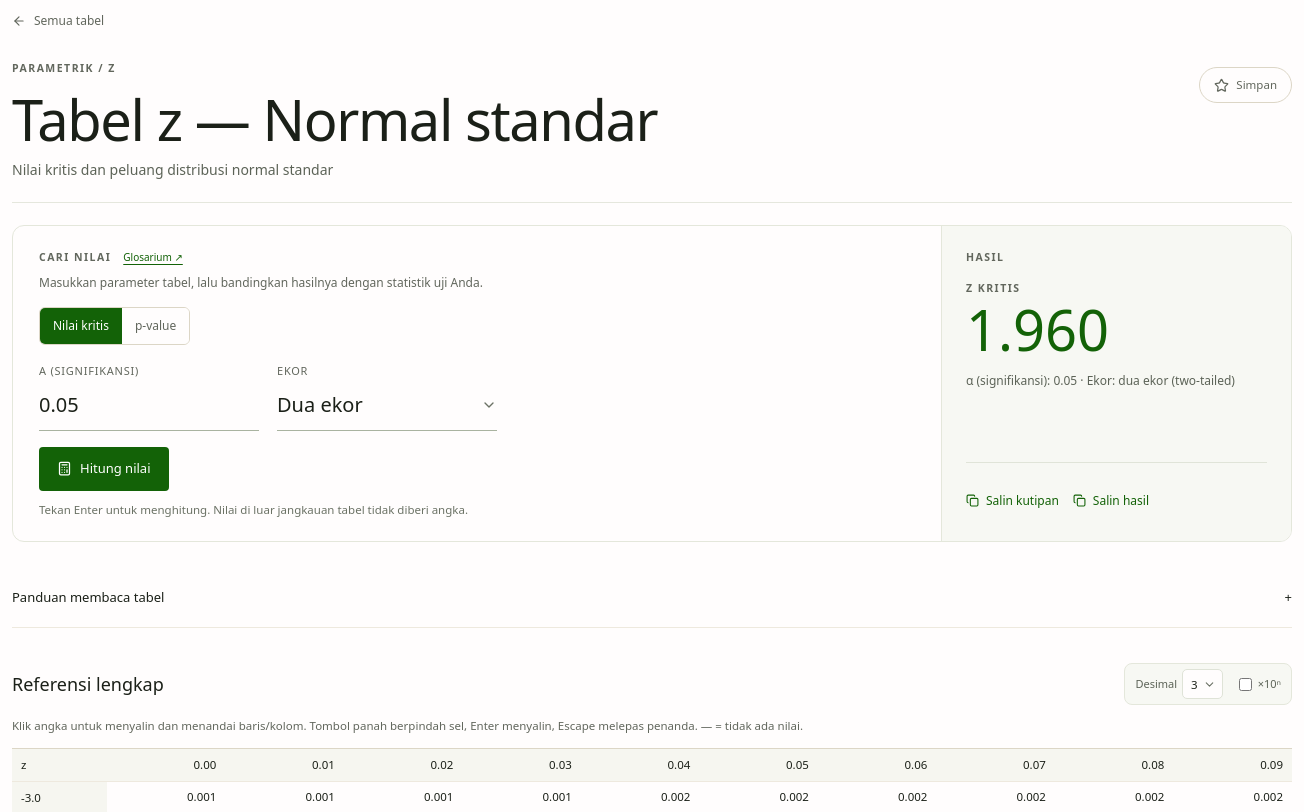
dropdown ekor memakai menu kustom dan menerapkan pilihan
This screenshot has width=1304, height=812.
Step 1. Click the dropdown labelled "ekor" → click(387, 405), box [277,380,497,431]
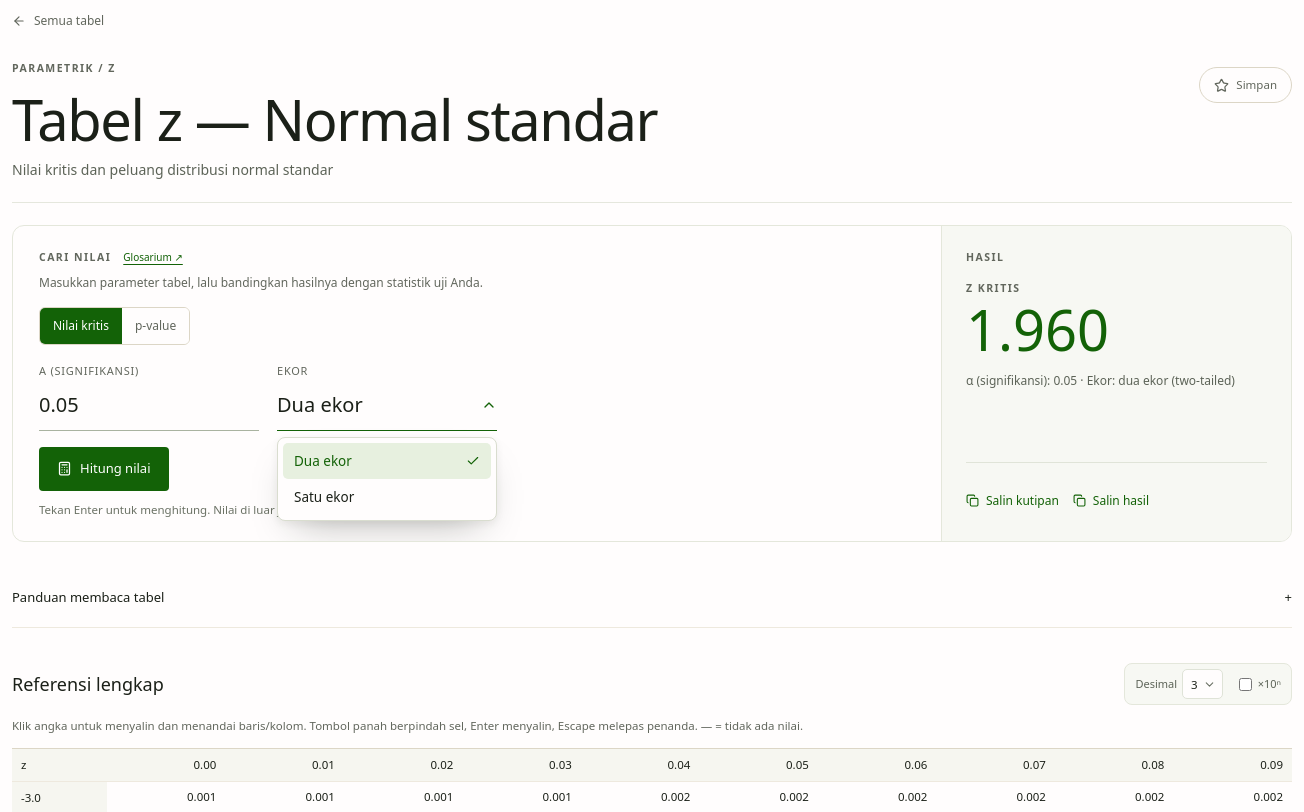
Now the dropdown labelled "ekor" is expanded, box [277,380,497,431]
Now the list "ekor" is shown, box [277,437,497,521]
Step 2. Click the option "Satu ekor" → click(324, 497), box [294,488,354,506]
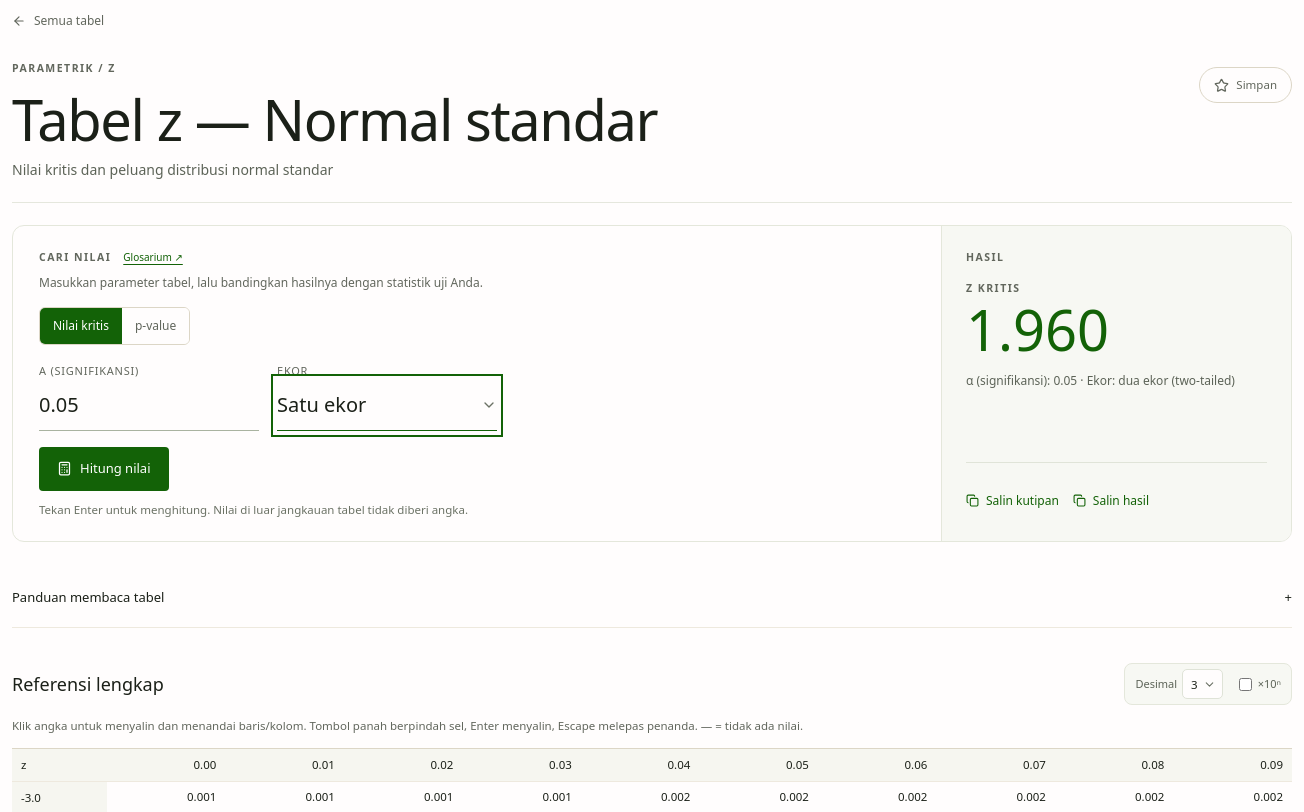
Now the list is gone
Now the dropdown labelled "ekor" reads "Satu ekor", box [277,380,497,431]
Step 3. Click the button "Hitung nilai" → click(104, 469), box [39,447,168,491]
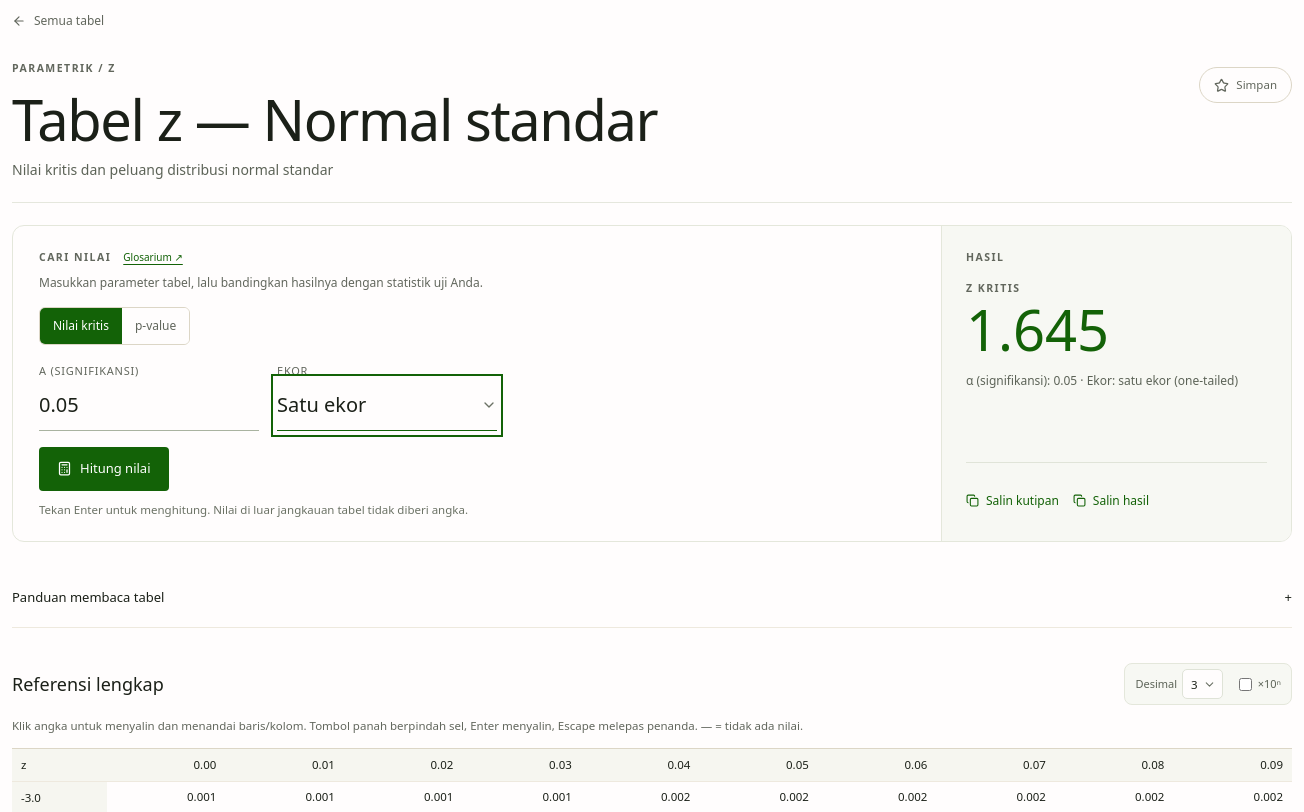
Now the element with test id "result" shows "1.645", box [966,291,1109,367]
